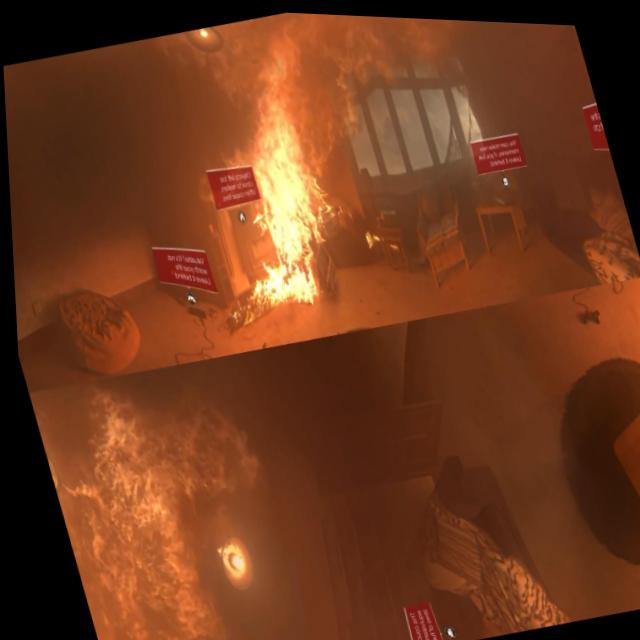fire: (28, 379, 235, 640), (195, 95, 355, 320)
